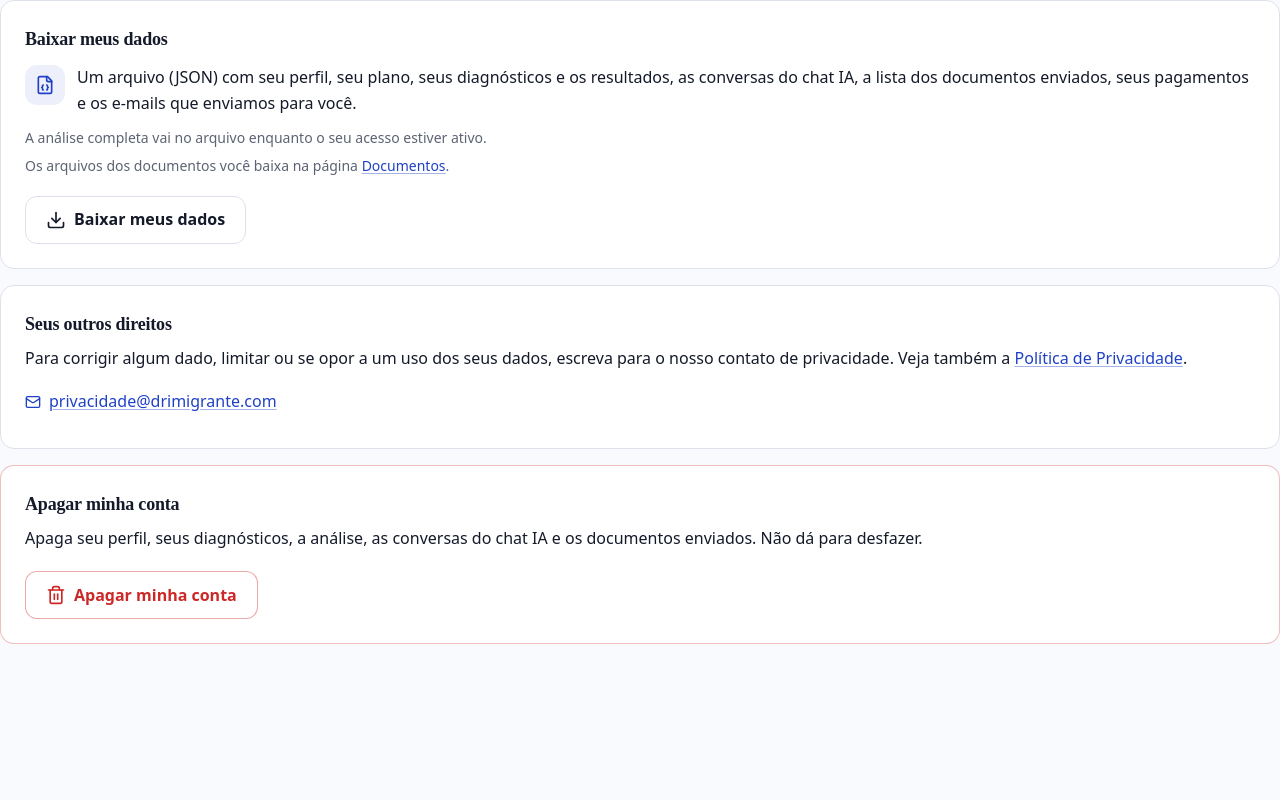
it: PrivacyPanel — apagar a conta › confirmação dupla: abre o sheet e só habilita com o e-mail da conta digitado
This screenshot has width=1280, height=800.
Click the button with test id "privacy-delete-open" at (141, 595), box top-left (25, 571), bottom-right (258, 619)
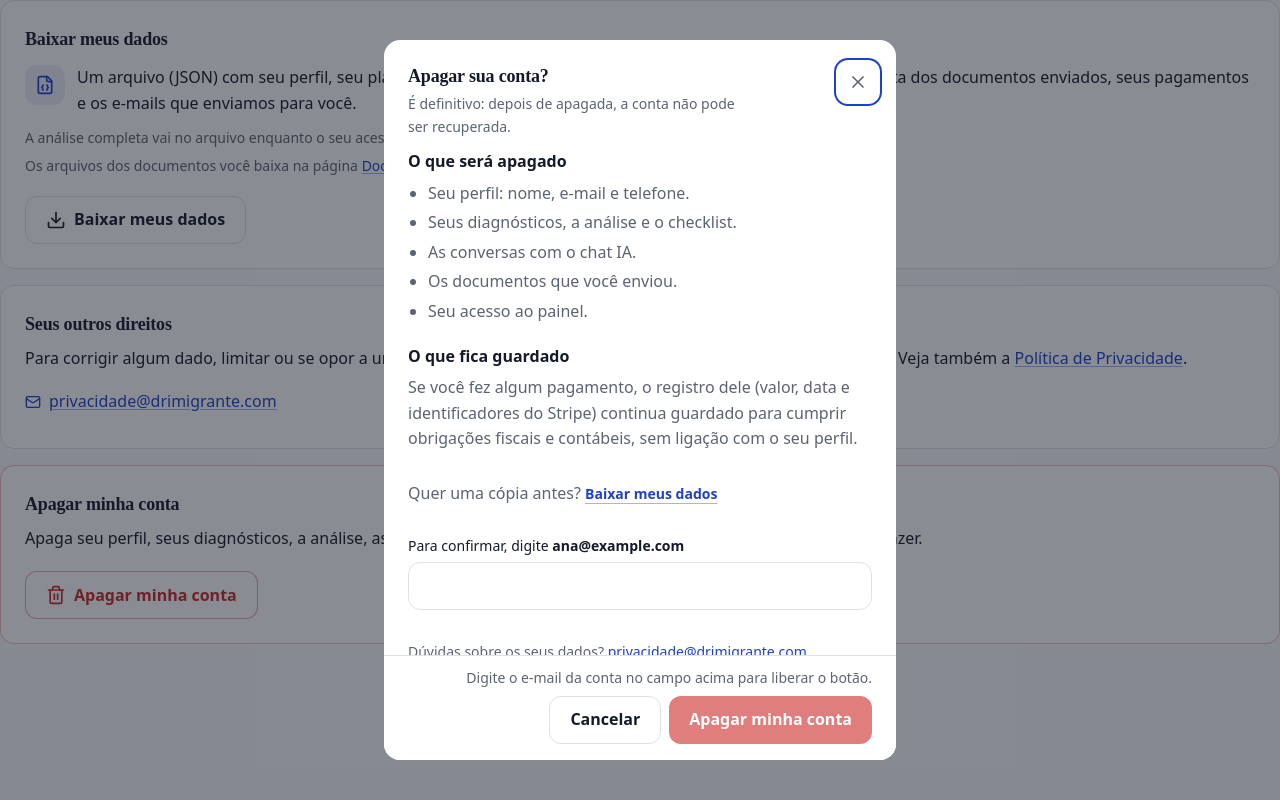
Check: the button with test id "delete-account-confirm" is disabled, box top-left (669, 696), bottom-right (872, 744)
Type "outra@example.com" into the field labelled "Para confirmar, digite ana@example.com" at (640, 586), box top-left (408, 562), bottom-right (872, 610)
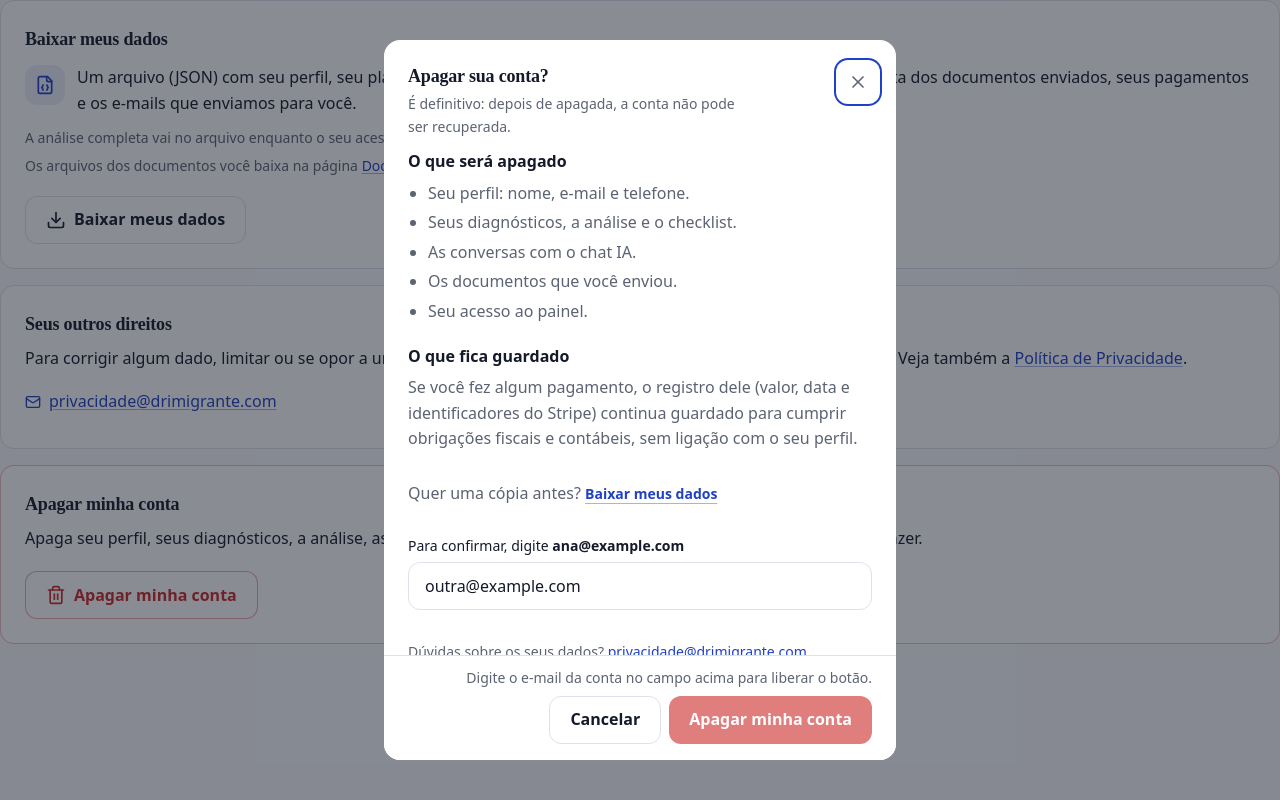
Check: the button with test id "delete-account-confirm" is disabled, box top-left (669, 696), bottom-right (872, 744)
Replace the text in the field labelled "Para confirmar, digite ana@example.com" with " ANA@example.com " at (640, 586), box top-left (408, 562), bottom-right (872, 610)
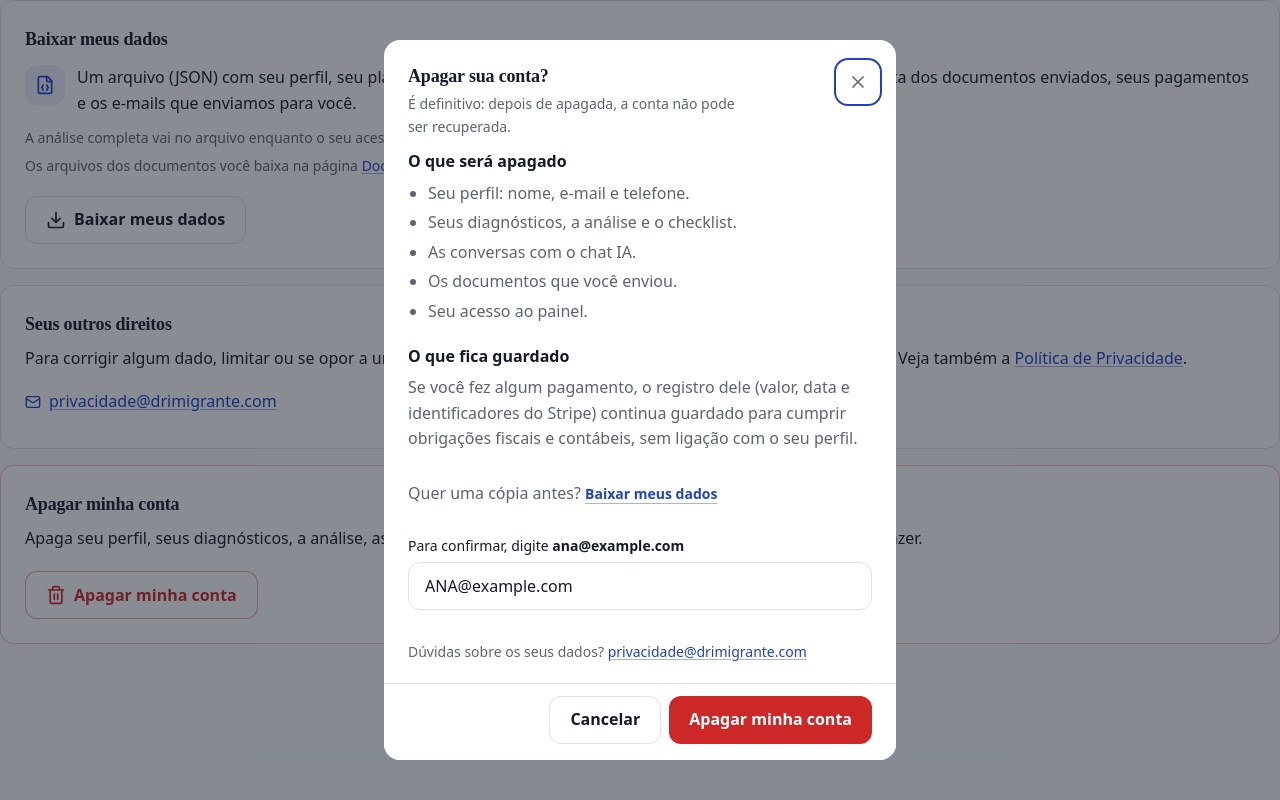
Check: the button with test id "delete-account-confirm" is enabled, box top-left (669, 696), bottom-right (872, 744)
